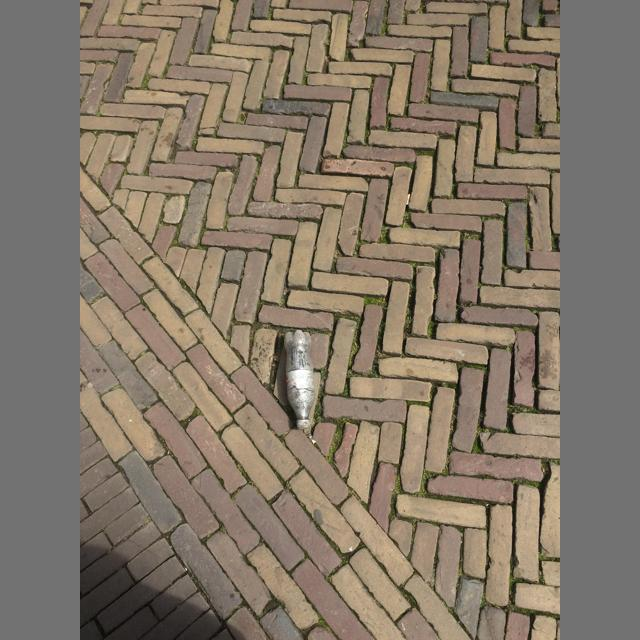litter: (284, 330, 315, 430), (296, 421, 310, 430), (406, 194, 411, 205)
